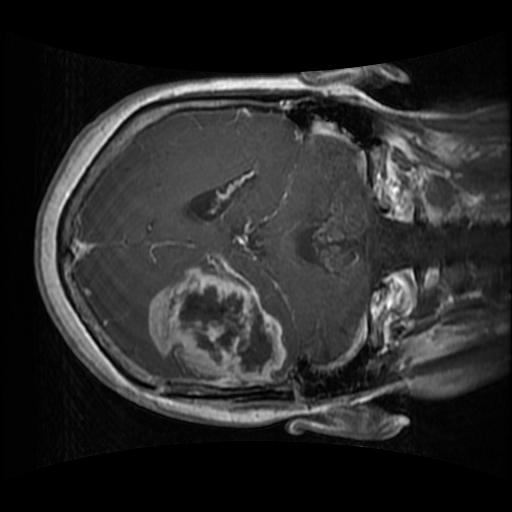glioma: (142, 249, 288, 391)
